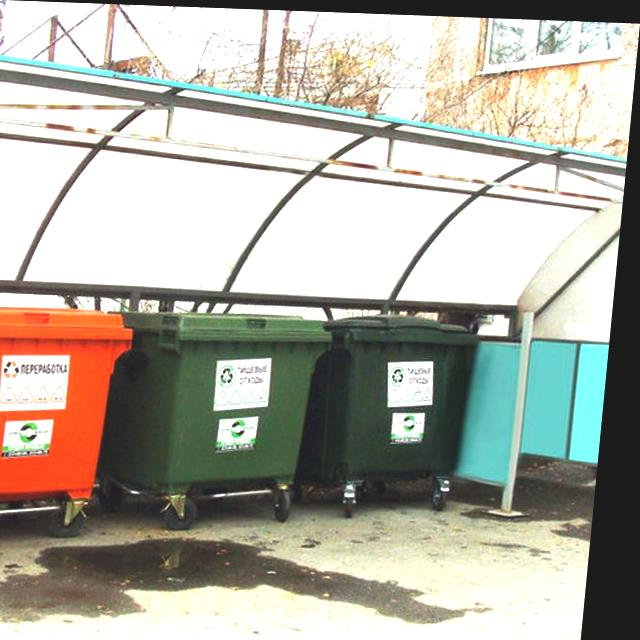Trash_Can_Closed: (102, 309, 341, 492), (306, 308, 490, 479), (0, 304, 143, 513)
